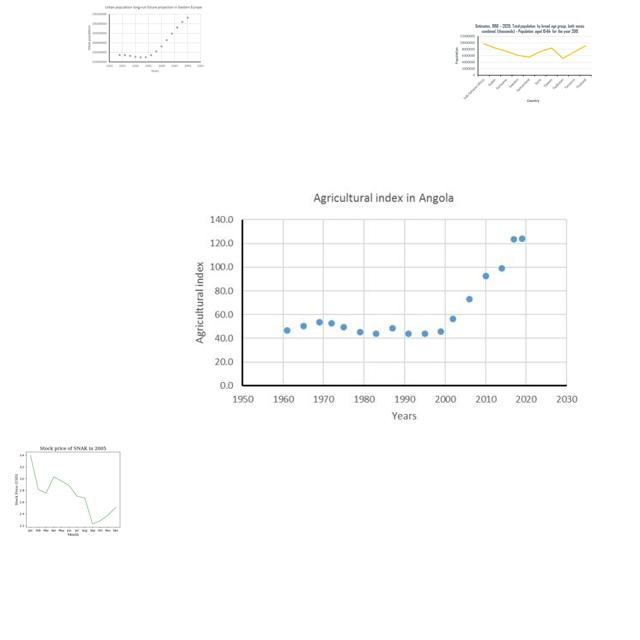Graph: (185, 187, 585, 425), (6, 440, 137, 538), (452, 21, 594, 104), (85, 3, 207, 76)
